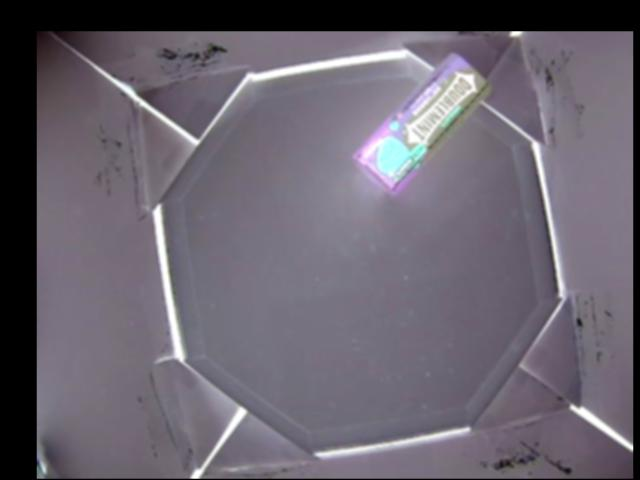Bottle: (356, 53, 492, 192)
